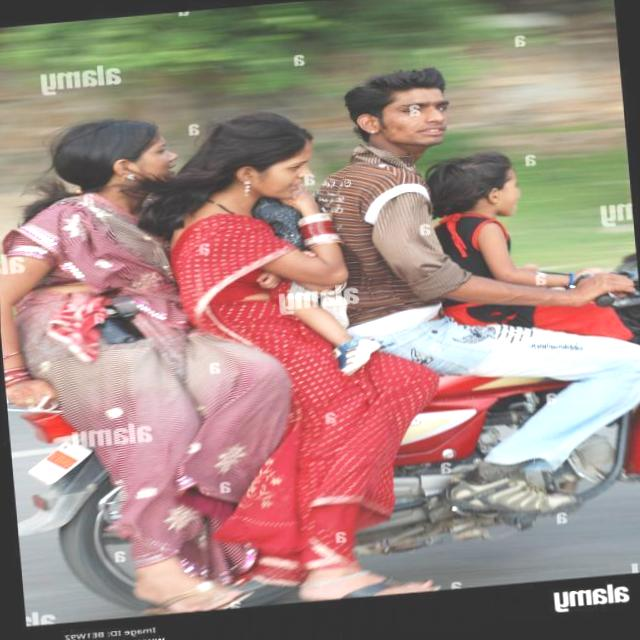motorcycle: (7, 260, 640, 600)
person: (0, 112, 227, 551), (180, 106, 390, 447), (314, 57, 509, 418), (422, 146, 577, 416)
rider_region: (11, 65, 640, 591)
